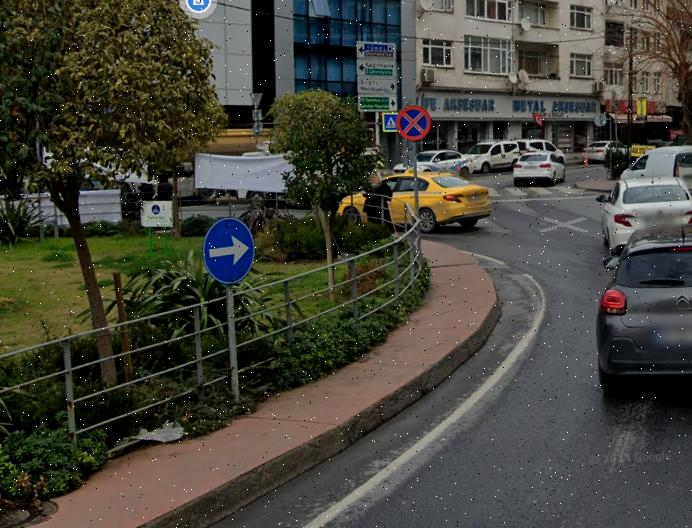turnleft: (203, 219, 257, 283)
